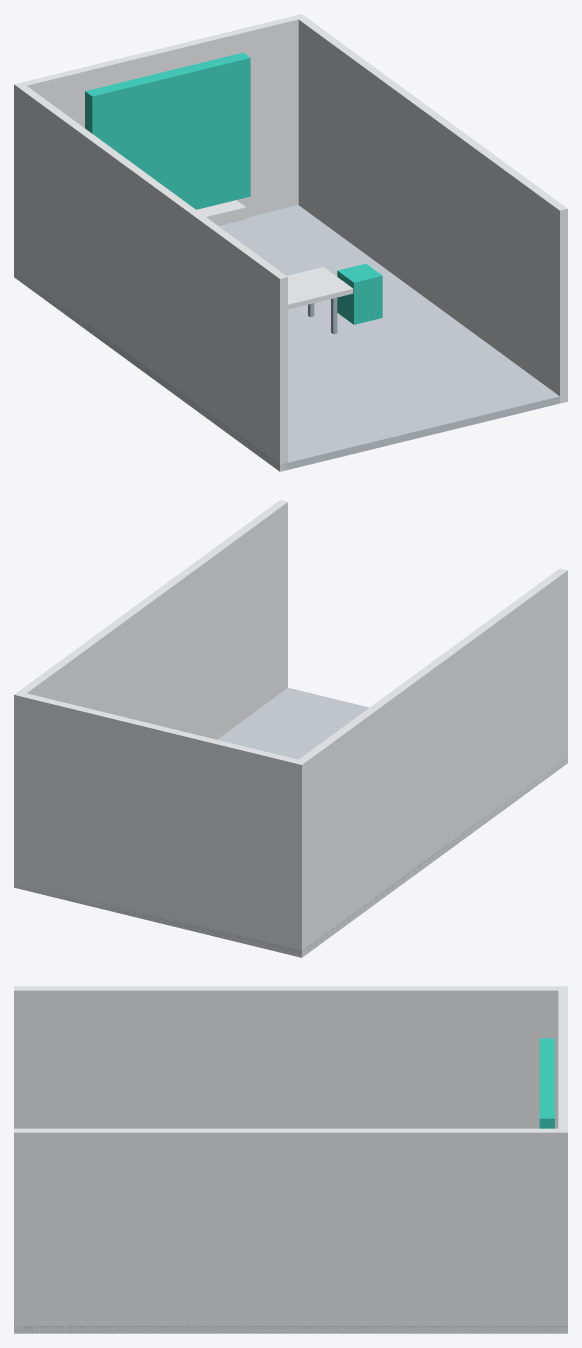
The picture shows the model from 3 angles, top to bottom: view 1: azimuth 30°, elevation 25°; view 2: azimuth 150°, elevation 25°; view 3: azimuth 270°, elevation 25°; orthographic projection. The views are drawn at different scales.
Visible parts, largest first — view 1: Exhibition Booth Concept; view 2: Exhibition Booth Concept; view 3: Exhibition Booth Concept.
Boxes of the visible parts, x1=… form: Exhibition Booth Concept: x1=14, y1=14, x2=567, y2=471; Exhibition Booth Concept: x1=14, y1=500, x2=567, y2=957; Exhibition Booth Concept: x1=14, y1=986, x2=567, y2=1333.
Bounding box in the file's own units: 5 × 3.2 × 8.
